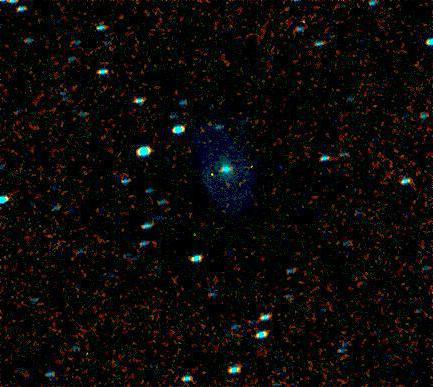star: (202, 162, 232, 192)
